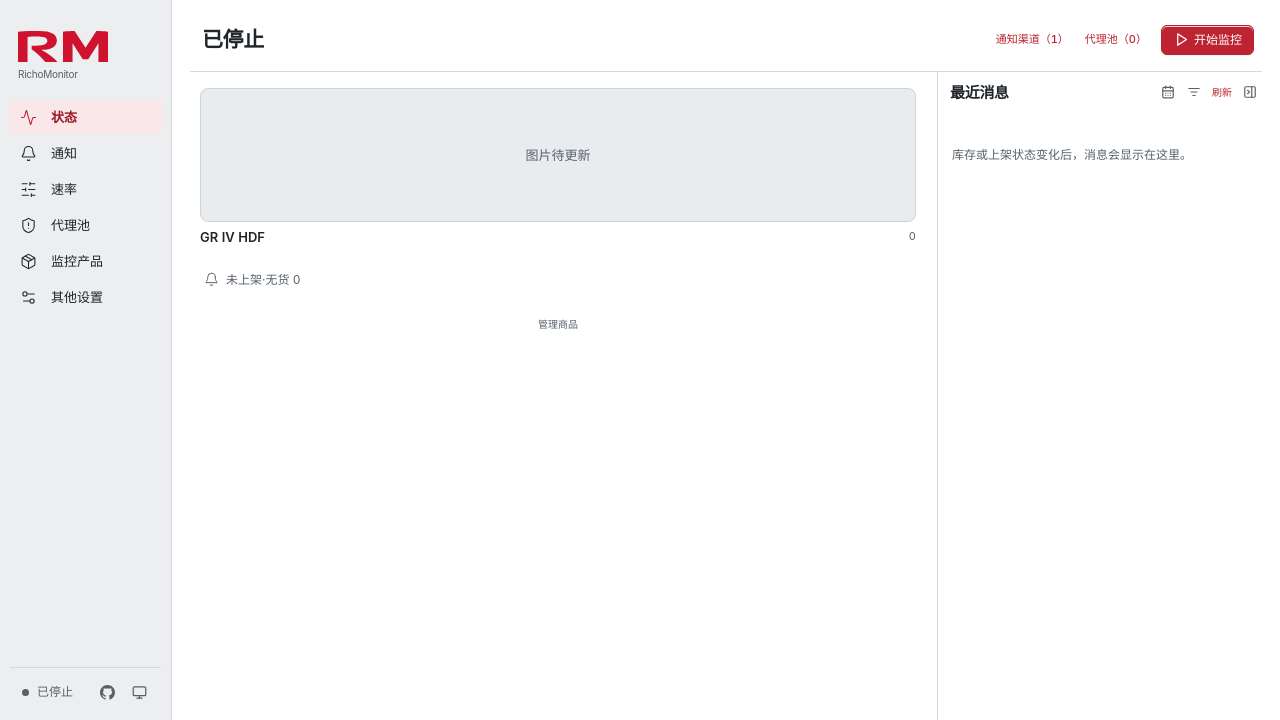
Test: 桌面主流程 › Escape 先取消删除确认并恢复焦点，输入法取消不会关闭商品详情
This screenshot has width=1280, height=720.
Click the button with aria-label "查看GR IV HDF详情" at (558, 155), box [200,88,916,222]
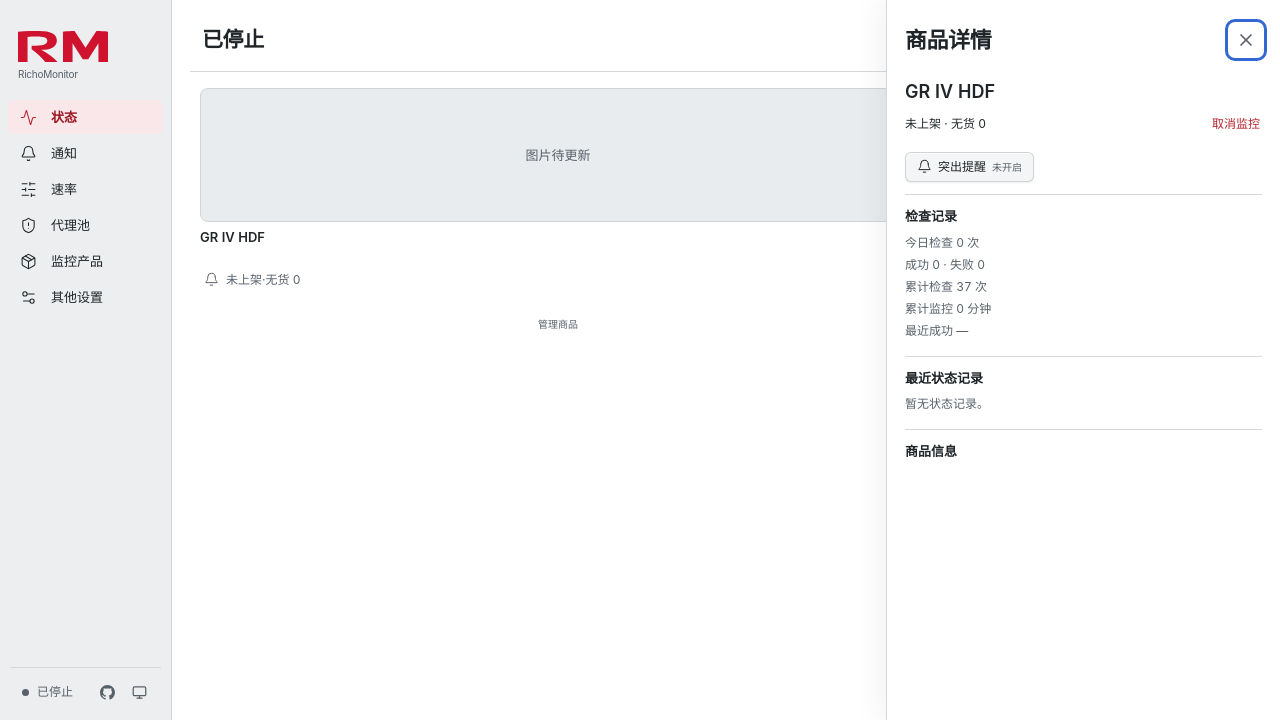
Expected: the dialog "商品详情" is shown, [886,0,1279,719]
Press Escape
Expected: the dialog "商品详情" is shown, [886,0,1279,719]
Press Escape
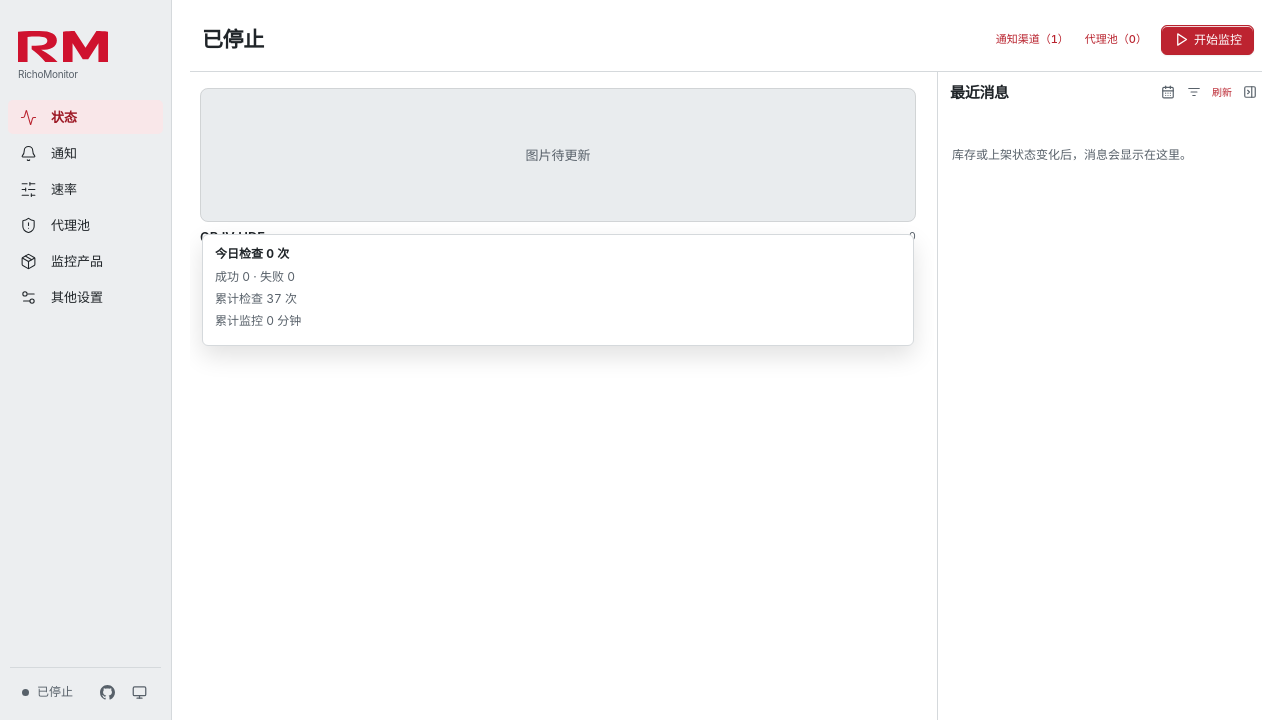
Click the button "通知" at (86, 153), box [8,136,163,170]
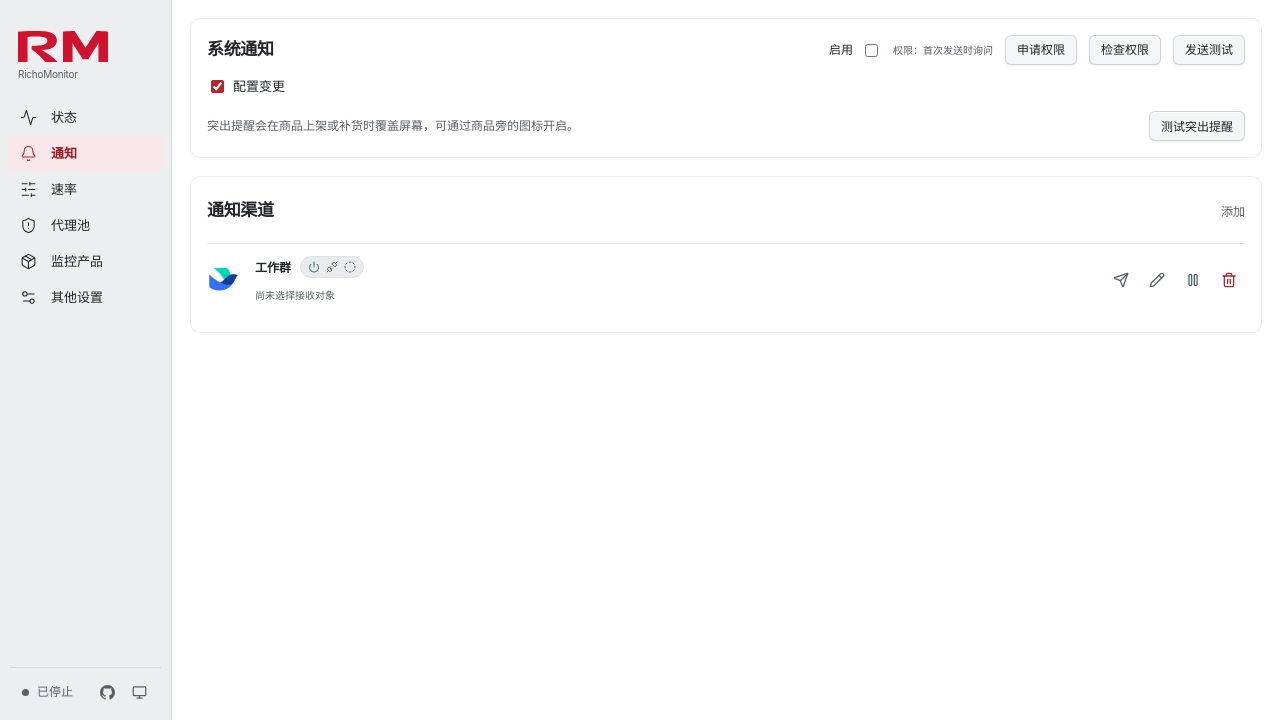
Click the button named "删除工作群" at (1229, 280), box [1213,264,1245,296]
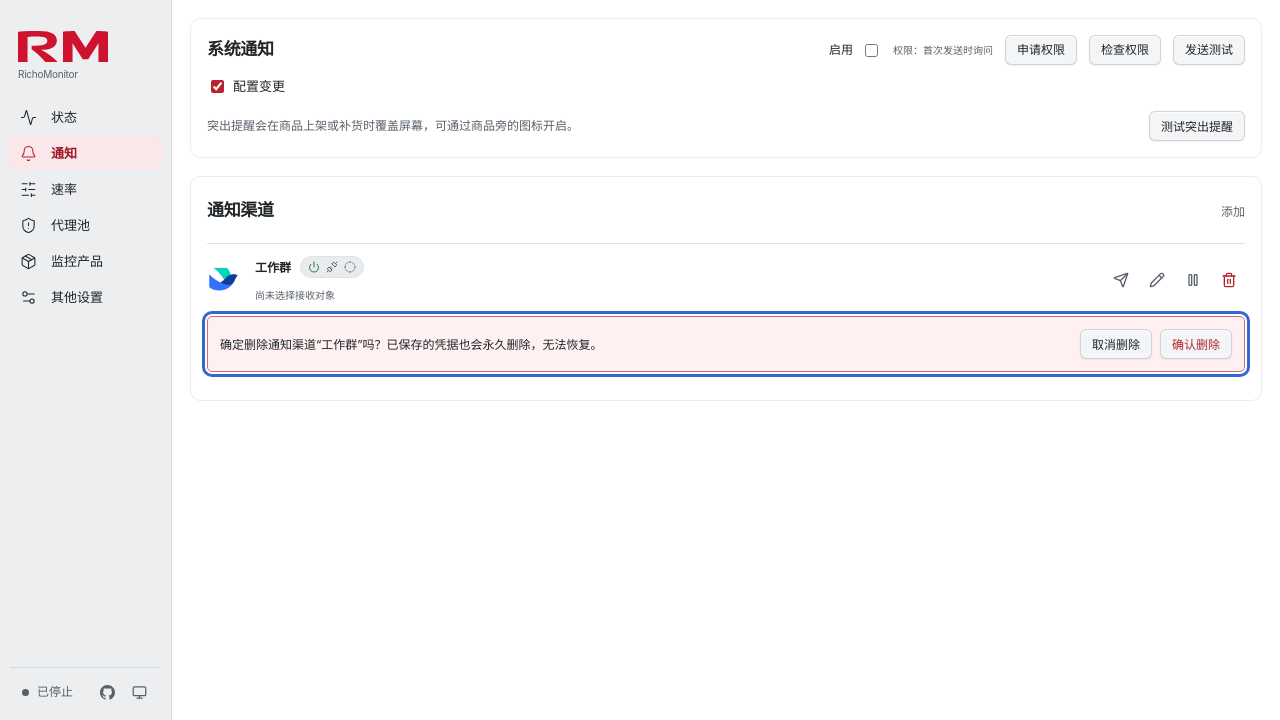
Expected: the element named "确认删除工作群" is shown, [207,316,1245,372]
Press Escape
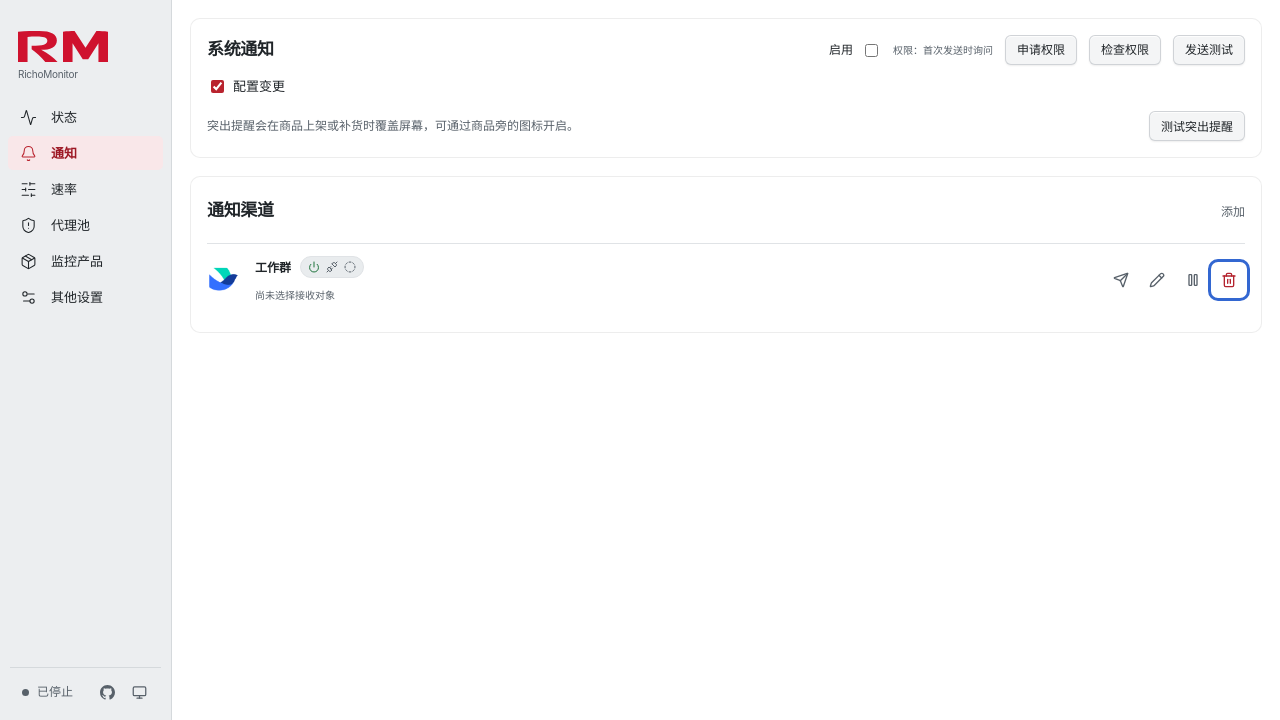
Expected: the element "确认删除工作群" is gone
